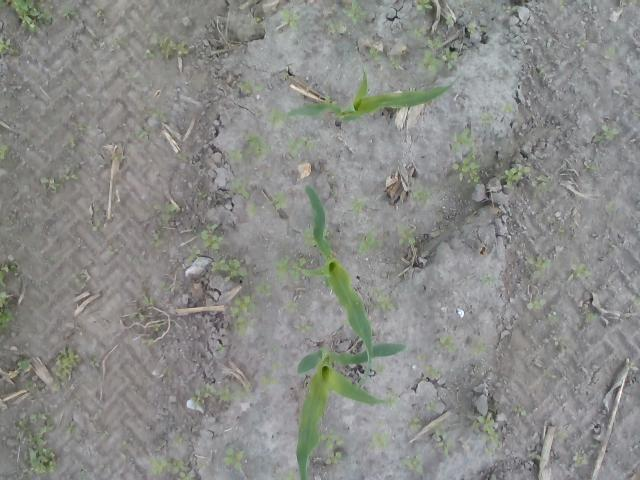Maize: (292, 184, 374, 390), (294, 341, 406, 480), (286, 70, 450, 132)
Weeds: (14, 411, 58, 474), (409, 24, 460, 74), (449, 126, 482, 184), (0, 0, 54, 34), (0, 253, 22, 330), (470, 412, 504, 458), (190, 383, 250, 408), (226, 290, 258, 336), (143, 31, 191, 60), (150, 454, 196, 480), (54, 344, 82, 382), (210, 255, 249, 282), (40, 166, 80, 192), (430, 420, 457, 458), (318, 426, 345, 464), (272, 256, 310, 281), (245, 128, 273, 160), (367, 286, 401, 312), (199, 222, 224, 255), (357, 224, 379, 256), (230, 174, 256, 200), (502, 164, 532, 186), (342, 0, 369, 24), (527, 255, 554, 278), (286, 134, 316, 154), (279, 6, 302, 32), (590, 125, 622, 143), (223, 448, 246, 472), (567, 262, 593, 281), (236, 79, 265, 96), (398, 222, 418, 246), (158, 200, 178, 224), (400, 454, 424, 474), (368, 430, 392, 450), (0, 35, 20, 58), (468, 335, 488, 358), (266, 107, 286, 129), (409, 183, 434, 200), (436, 335, 458, 354), (327, 15, 347, 35), (185, 239, 201, 262), (57, 0, 80, 16), (303, 223, 318, 247), (134, 126, 152, 146), (254, 278, 272, 297), (366, 46, 386, 63), (134, 111, 168, 121), (351, 198, 369, 216), (384, 391, 402, 409), (406, 414, 422, 432), (478, 110, 494, 128), (292, 321, 313, 334), (73, 119, 90, 135), (424, 399, 440, 416), (414, 0, 434, 13), (273, 191, 288, 208), (72, 272, 87, 289), (424, 365, 441, 380), (64, 132, 79, 148), (512, 403, 529, 417), (572, 453, 590, 466), (262, 374, 281, 386), (527, 300, 546, 312), (534, 174, 546, 193), (580, 160, 596, 174), (284, 302, 304, 313), (390, 54, 402, 72), (478, 274, 496, 286), (246, 200, 258, 217), (24, 374, 38, 388), (17, 358, 32, 371), (140, 336, 156, 348), (502, 4, 521, 14), (126, 70, 145, 80), (112, 34, 129, 45), (128, 312, 146, 322), (551, 336, 567, 347), (150, 223, 160, 240), (529, 451, 544, 462), (0, 144, 10, 160), (584, 311, 600, 321), (546, 310, 562, 320), (229, 150, 242, 162), (575, 39, 589, 50), (88, 356, 100, 368), (372, 362, 384, 374), (271, 360, 283, 371), (253, 16, 266, 26), (630, 293, 640, 306), (80, 463, 88, 479), (286, 471, 300, 480), (142, 294, 154, 304), (339, 317, 351, 327), (502, 101, 512, 113), (176, 153, 190, 161), (67, 422, 77, 433), (151, 322, 162, 332), (198, 190, 208, 200), (175, 434, 185, 444), (99, 431, 109, 441), (325, 95, 336, 104), (466, 24, 476, 33), (95, 7, 104, 17), (543, 38, 552, 48), (608, 47, 616, 57), (216, 344, 226, 352), (270, 344, 280, 352), (280, 71, 288, 81), (120, 439, 128, 449), (159, 281, 167, 290), (559, 0, 567, 9), (446, 15, 453, 25)
